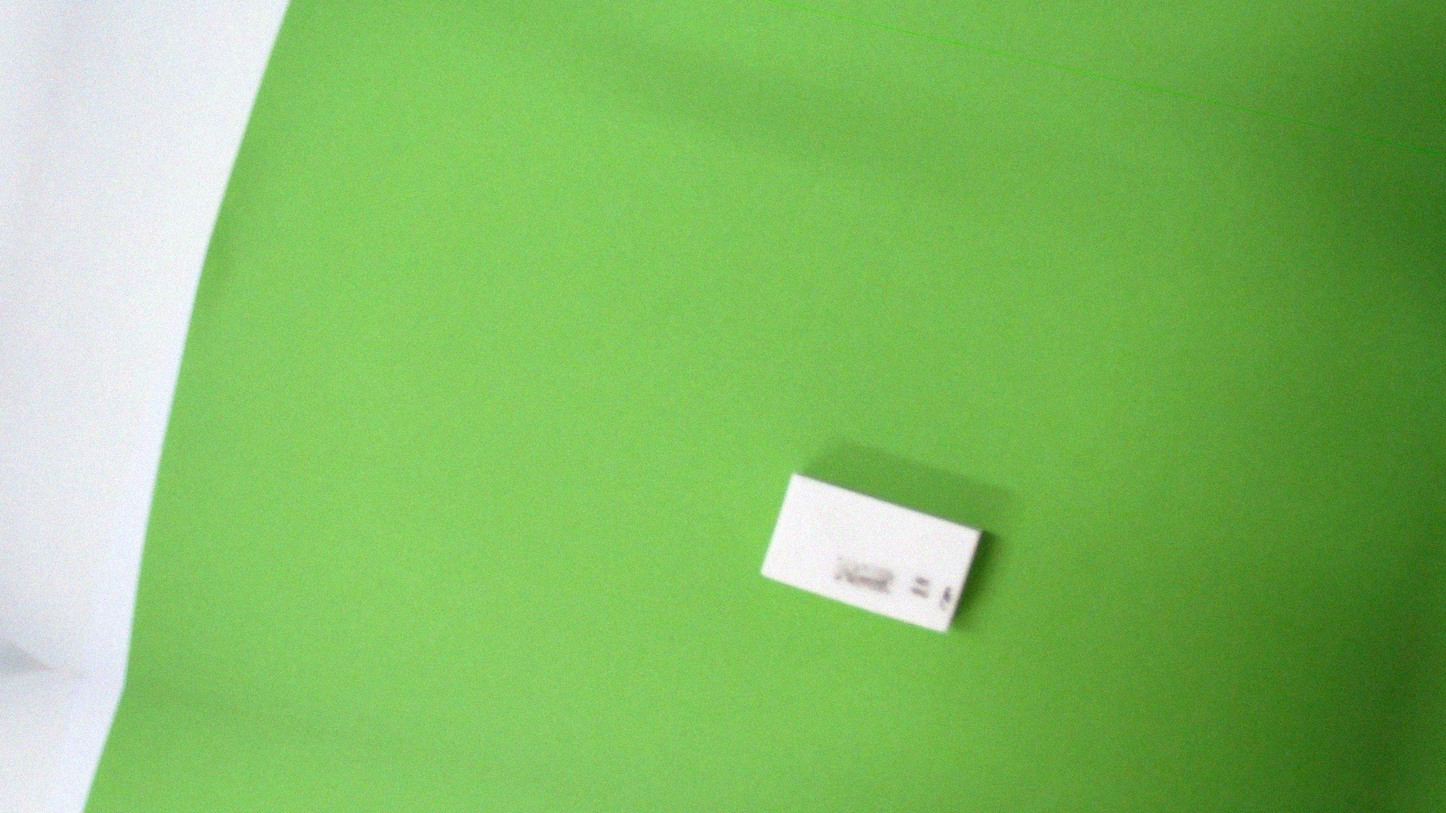gom: (752, 460, 990, 648)
